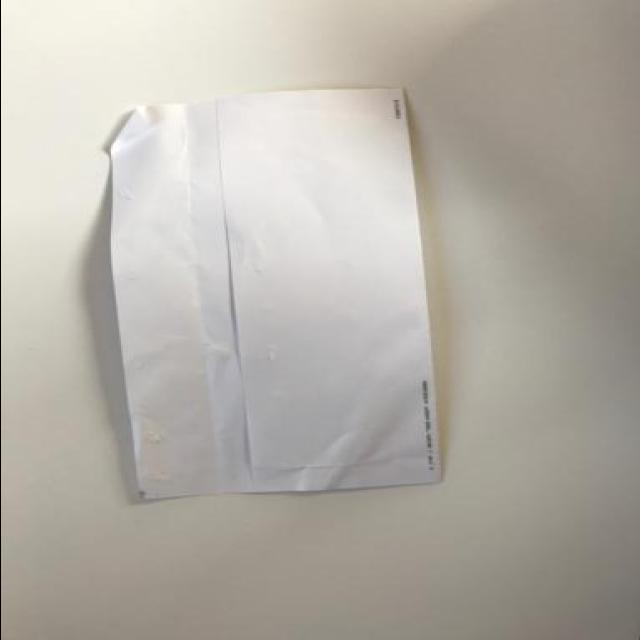kertas: (102, 85, 445, 500)
